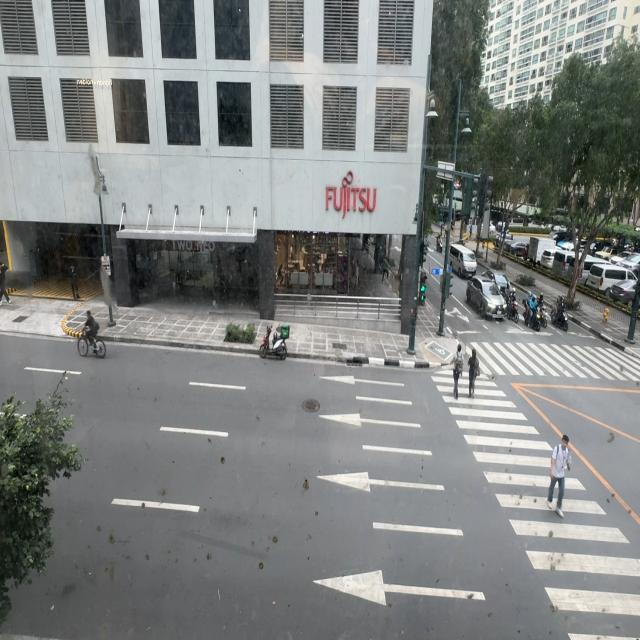crossing: (547, 434, 572, 514), (453, 344, 464, 398), (468, 348, 478, 398)
pedestrain: (68, 265, 80, 301), (354, 260, 360, 288)
